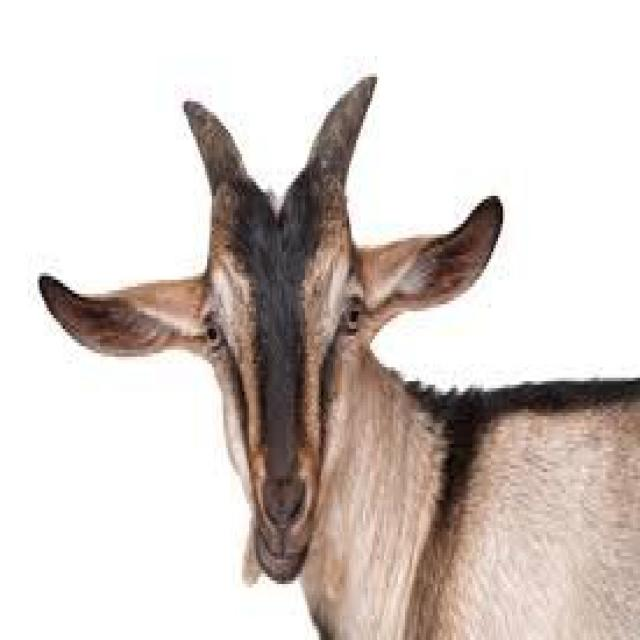goat: (42, 77, 640, 637)
